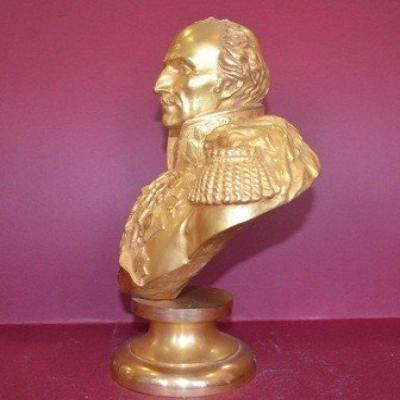sculpture: (117, 17, 321, 396)
